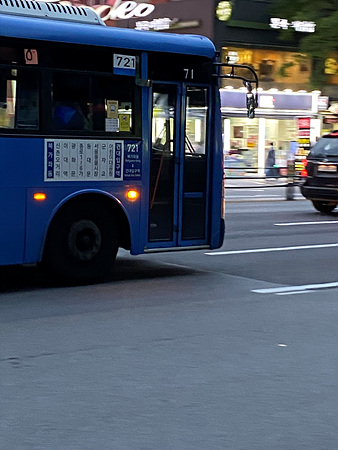entrance: (143, 77, 217, 255)
